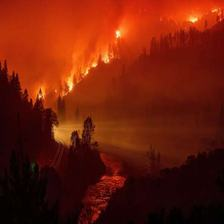fire: (24, 18, 210, 94)
